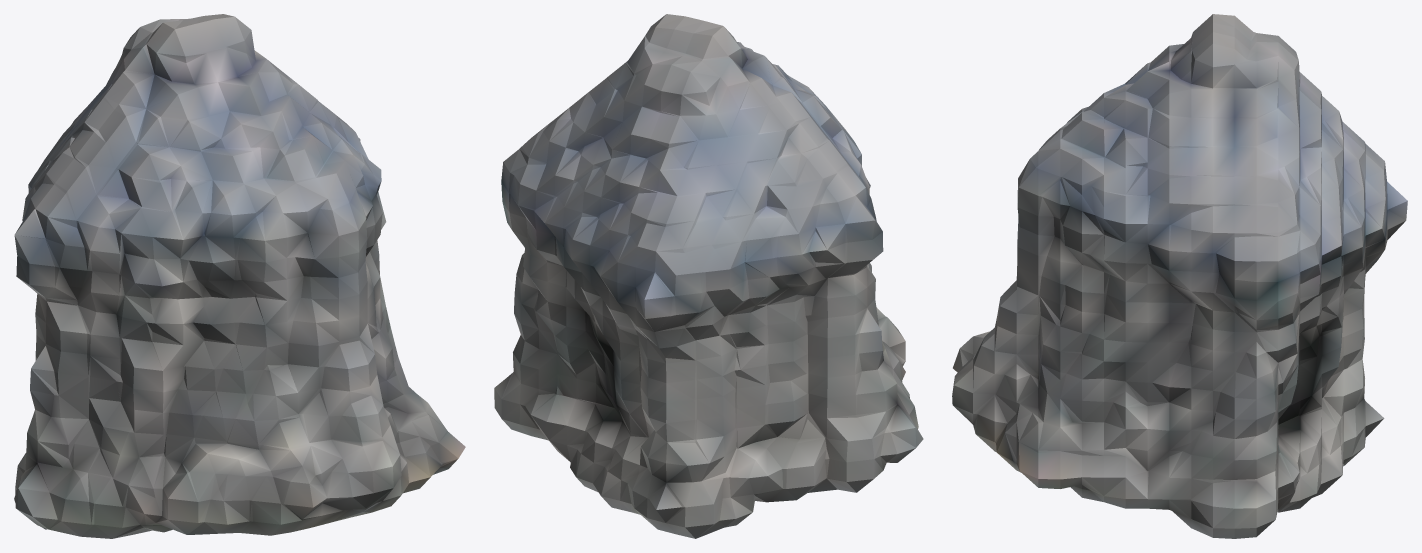
File: stage4t_triposr_shrine_mc48_raw.glb
The picture shows the model from 3 angles, left to right: view 1: azimuth 30°, elevation 25°; view 2: azimuth 150°, elevation 25°; view 3: azimuth 270°, elevation 25°; orthographic projection. The views are drawn at different scales.
Visible parts, largest first — view 1: world; view 2: world; view 3: world.
Part boxes in pixels (x1,y1,x2,y2): world: (14, 14, 465, 538); world: (494, 14, 923, 538); world: (952, 14, 1407, 538).
Bounding box in the file's own units: 0.7385 × 0.8485 × 0.7733.
